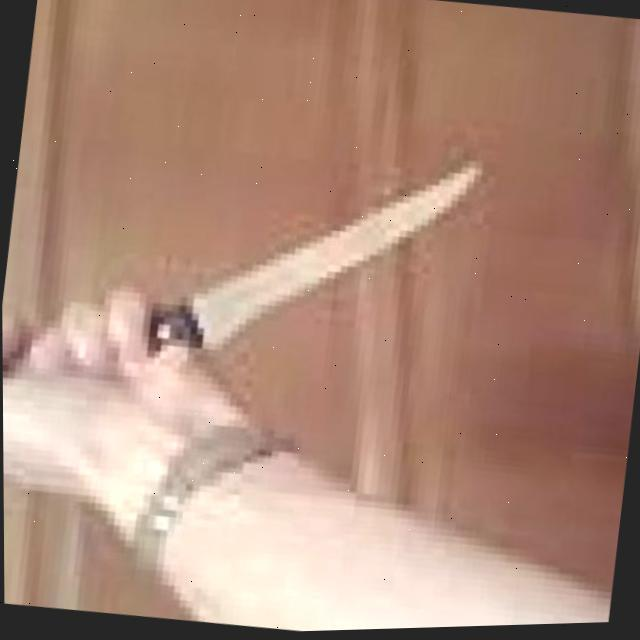knife: (152, 126, 490, 382)
